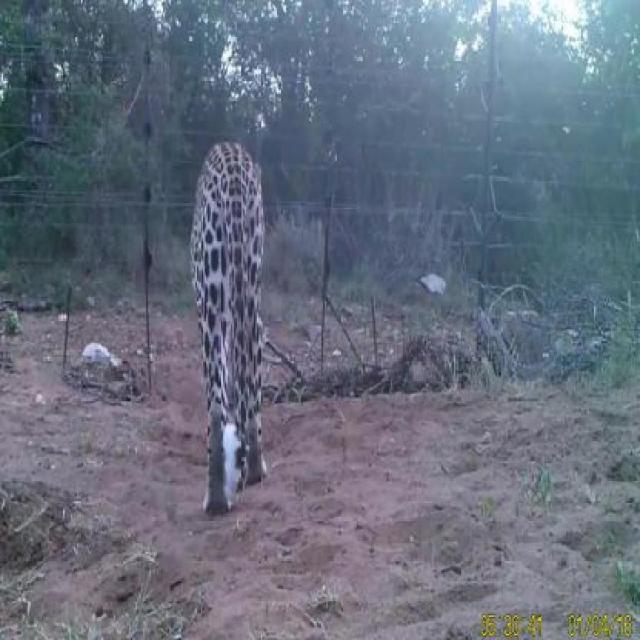Leopard: (194, 102, 297, 540)
